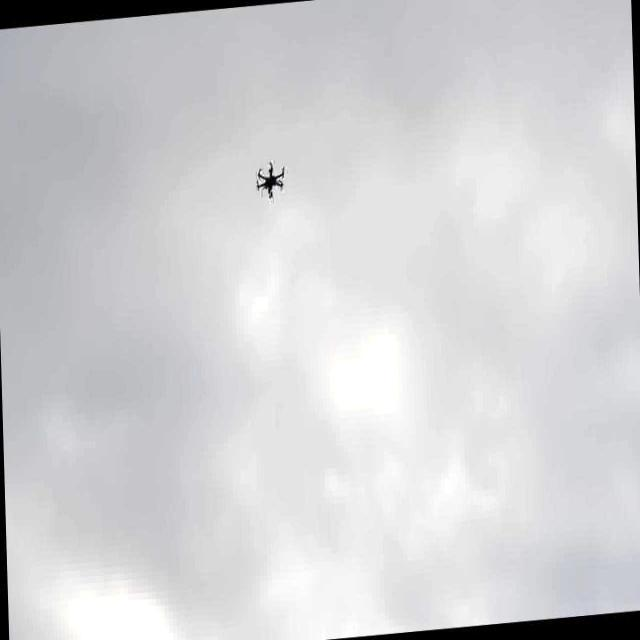drone: (252, 154, 288, 206)
